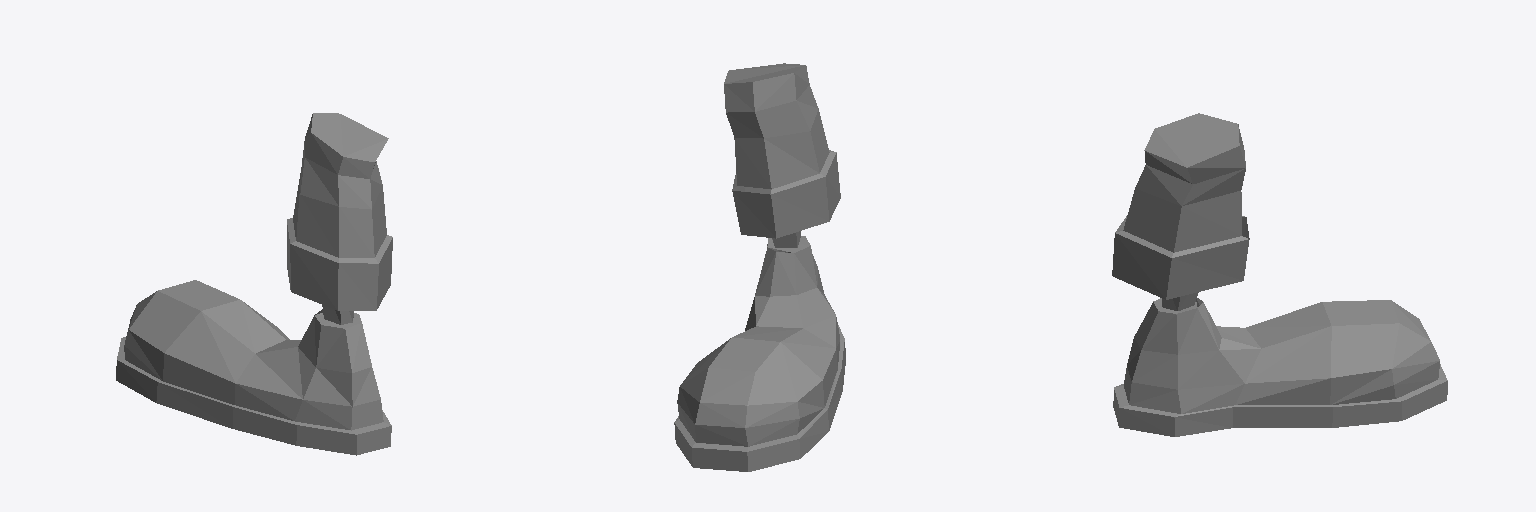
File: PiernaIzq.obj
3 renders of one model, left to right at view 1: azimuth 30°, elevation 25°; view 2: azimuth 150°, elevation 25°; view 3: azimuth 270°, elevation 25°, orthographic.
Parts seen in each view (by area): view 1: PiernaIzq; view 2: PiernaIzq; view 3: PiernaIzq.
Part boxes in pixels (bbox=[...]): PiernaIzq: bbox=[116, 113, 392, 455]; PiernaIzq: bbox=[674, 63, 845, 471]; PiernaIzq: bbox=[1112, 113, 1447, 436].
Bounding box in the file's own units: 8.98 × 14.89 × 15.12.